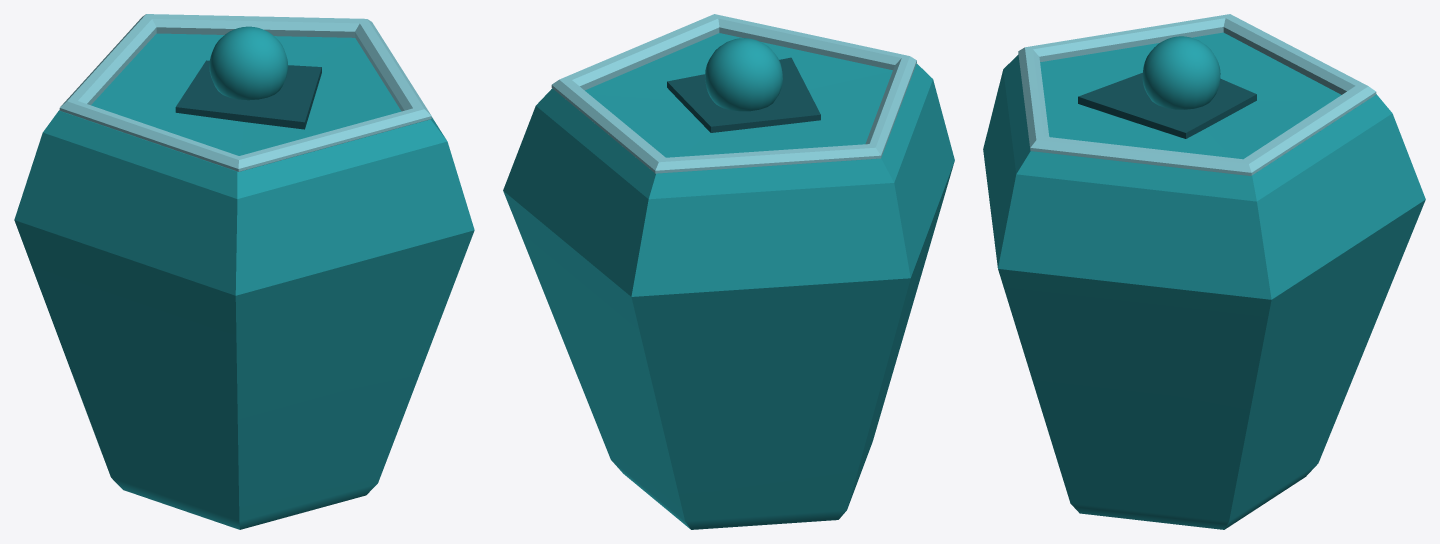
File: Big Relic.fbx
3 renders of one model, left to right at view 1: azimuth 30°, elevation 25°; view 2: azimuth 150°, elevation 25°; view 3: azimuth 270°, elevation 25°, orthographic.
Parts seen in each view (by area): view 1: polySurface42; view 2: polySurface42; view 3: polySurface42.
Part boxes in pixels (x1,y1,x2,y2): polySurface42: (14,14,474,529); polySurface42: (503,14,954,529); polySurface42: (983,14,1425,529).
Size of the model in its own units: 0.7733 by 0.8322 by 0.748.
